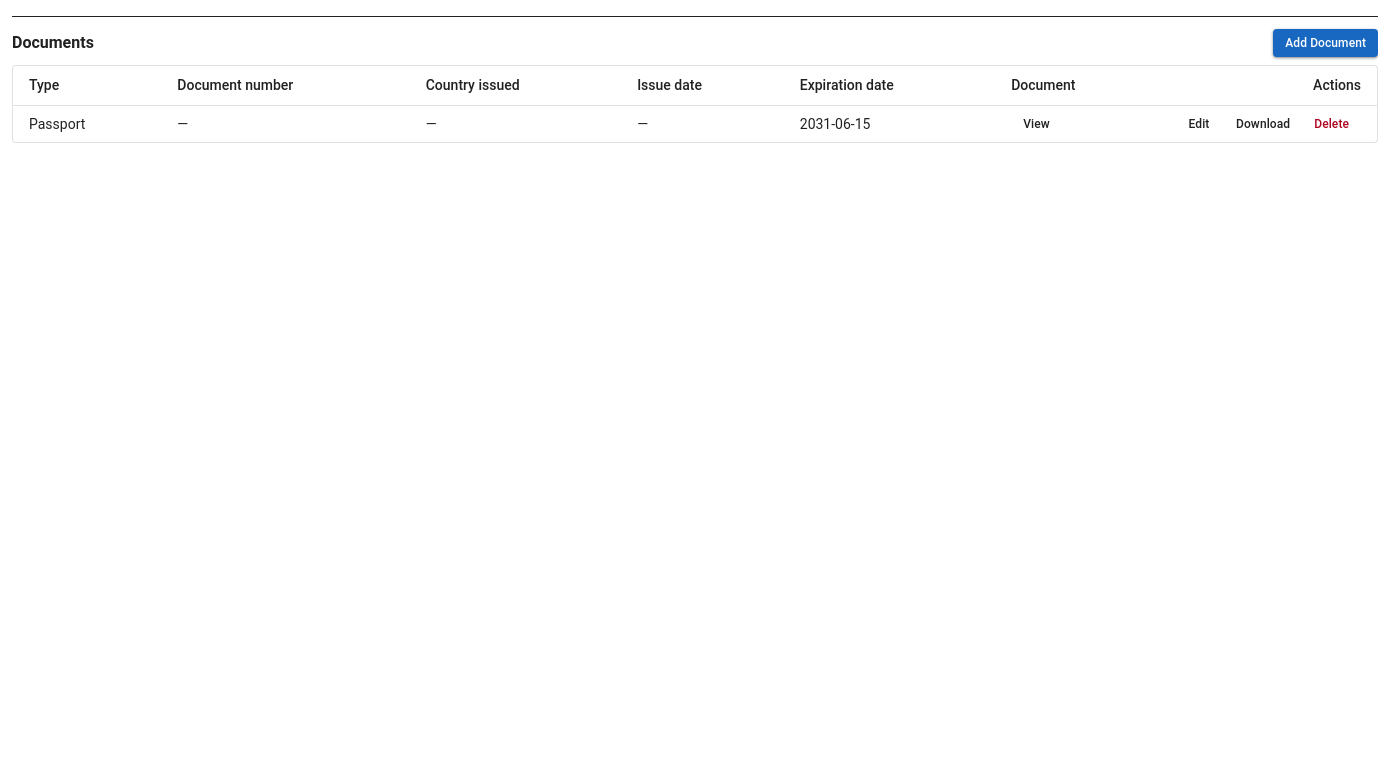
Test: Feature 97 — Document File Thumbnail in the Edit Document Dialog › US-97.1 — See the uploaded file while editing a document › Editing a document with an image shows its thumbnail
Click the button "Edit": (1199, 124) [1174,110,1224,138]
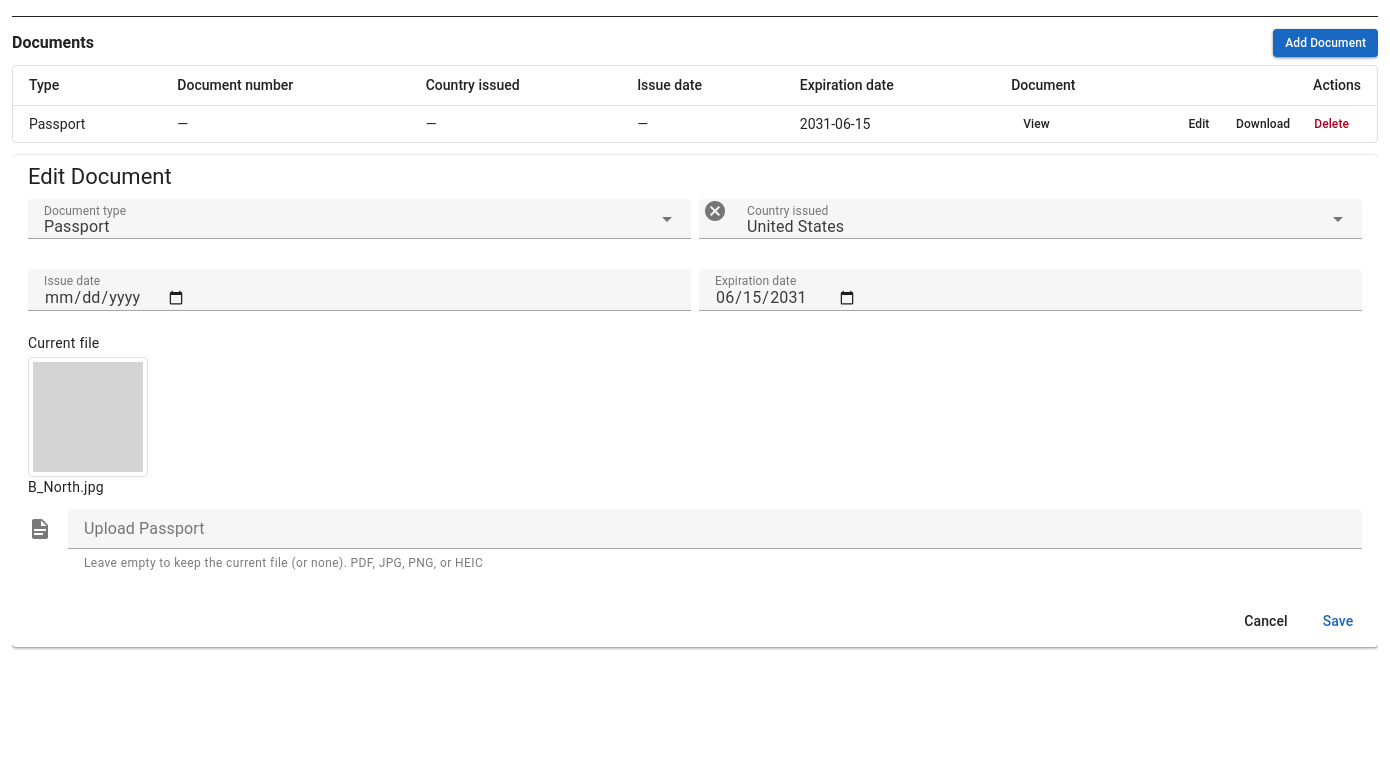
Check: the element with test id "current-file" shows "B_North.jpg", box [28,479,104,495]
